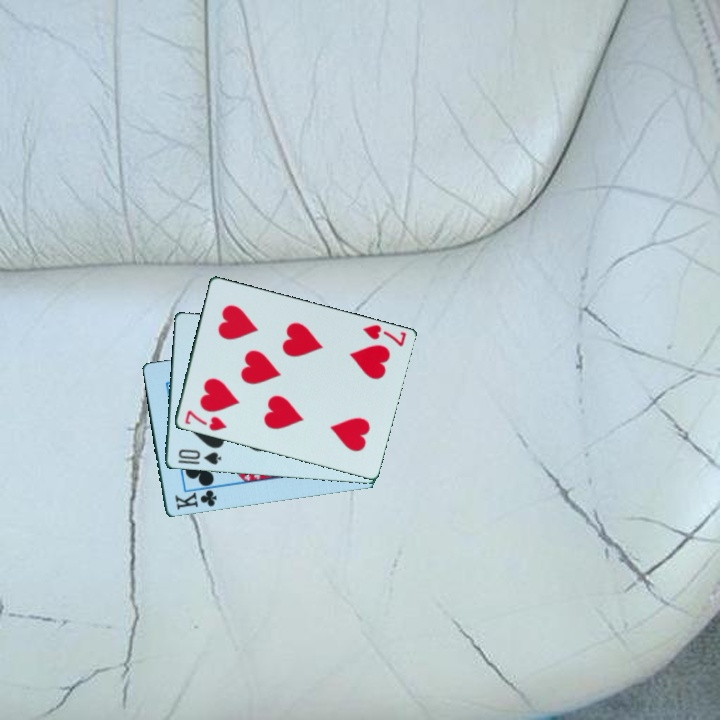10s: (174, 446, 223, 468)
7h: (359, 321, 409, 350), (181, 407, 229, 434)
Kc: (171, 486, 220, 513)
